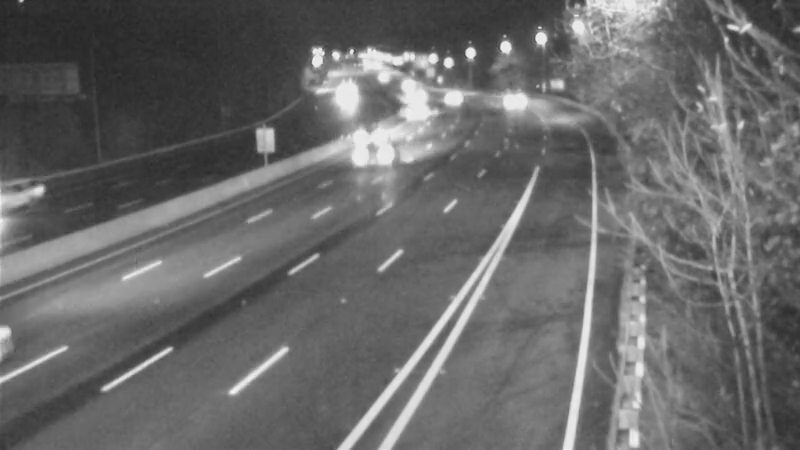vehicle: (342, 114, 422, 194), (1, 156, 68, 236), (376, 61, 426, 111), (480, 75, 530, 125), (422, 71, 472, 121), (393, 72, 443, 122), (393, 84, 443, 134), (347, 111, 397, 161), (316, 69, 366, 119)
